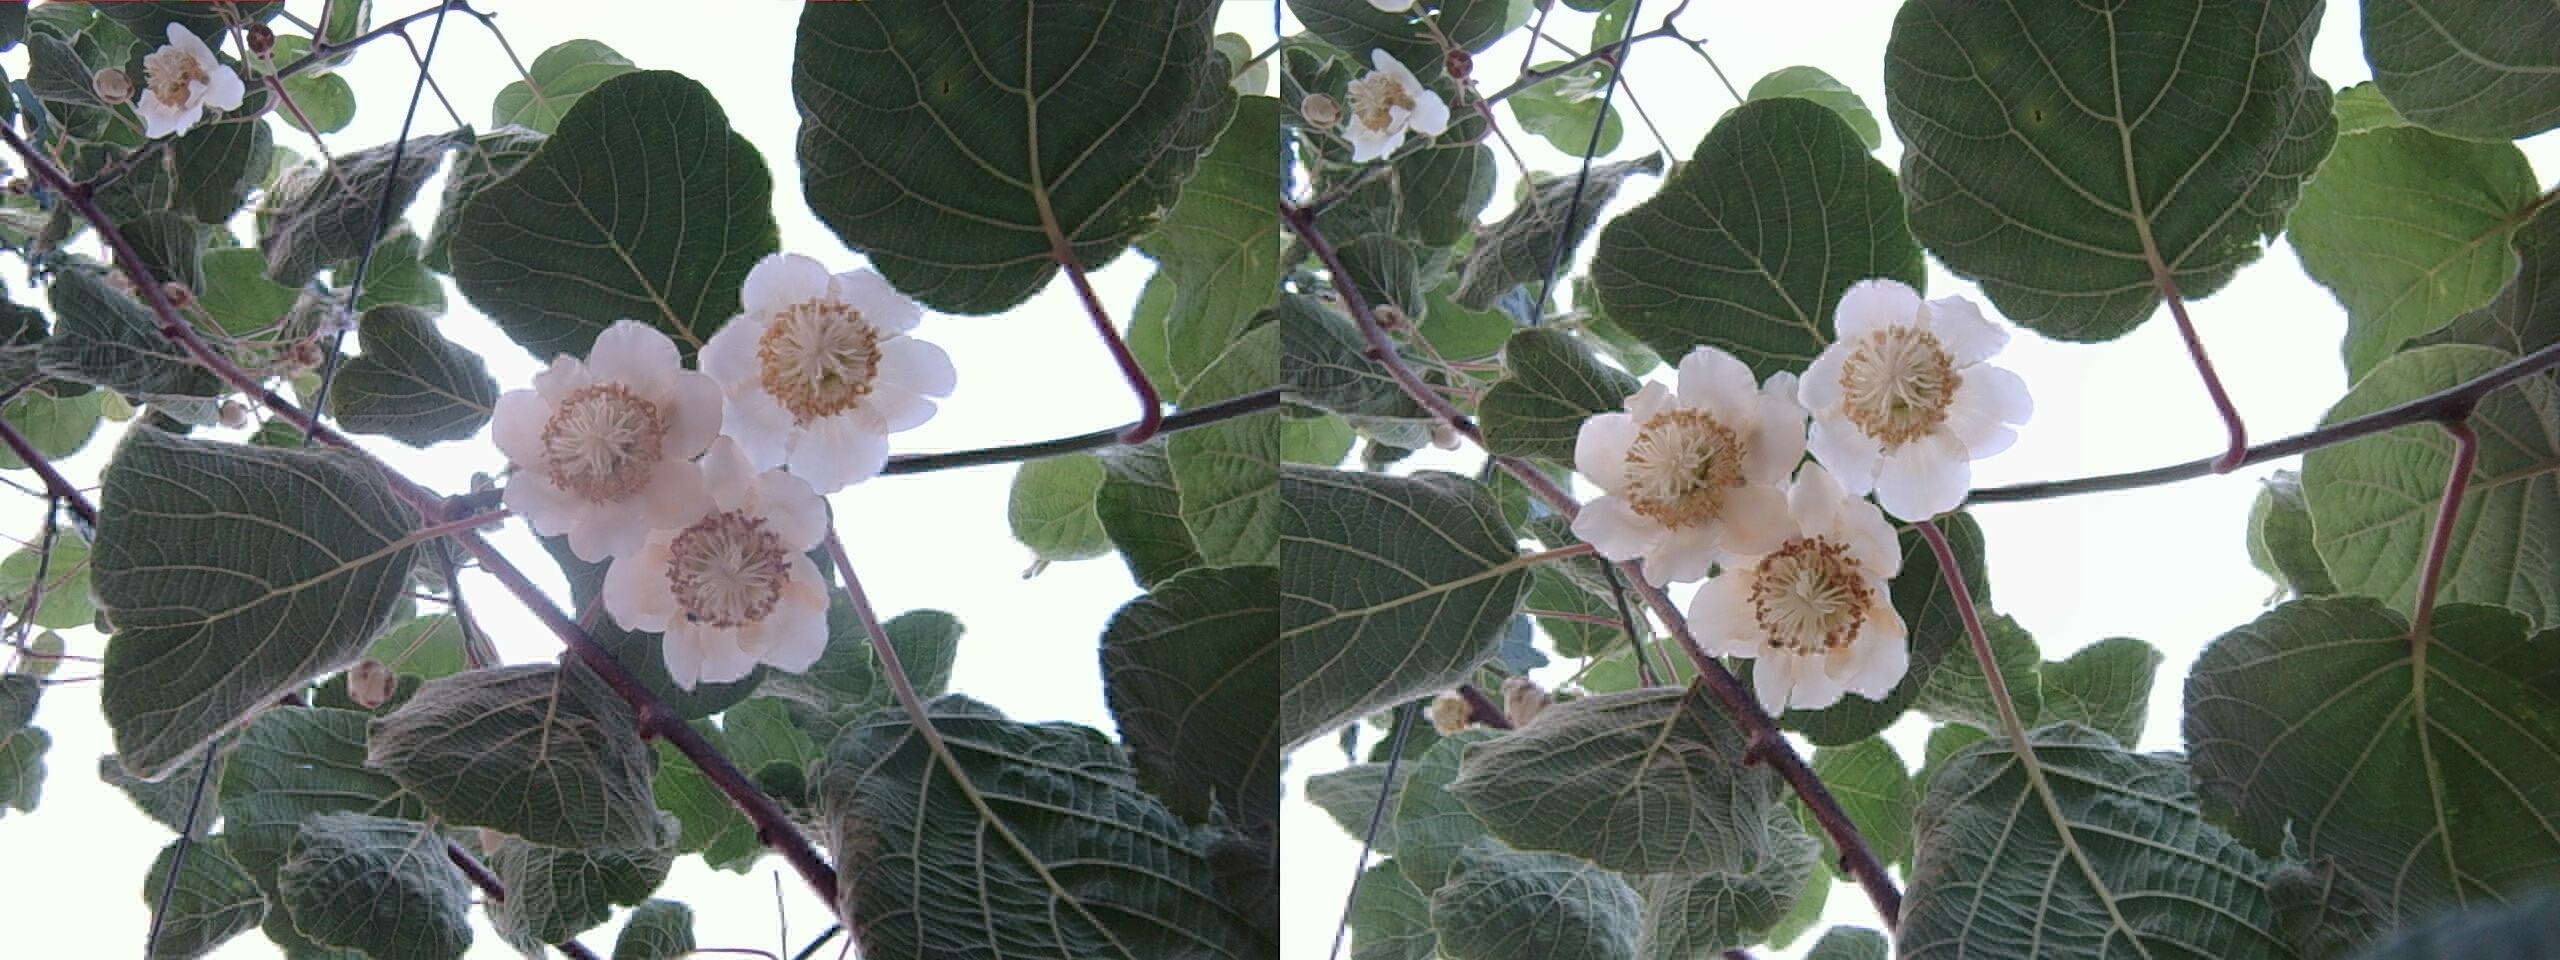flower: (1788, 258, 2029, 514), (586, 451, 839, 684), (482, 318, 723, 557), (697, 243, 942, 478), (1566, 341, 1806, 580), (1683, 491, 1913, 718)
